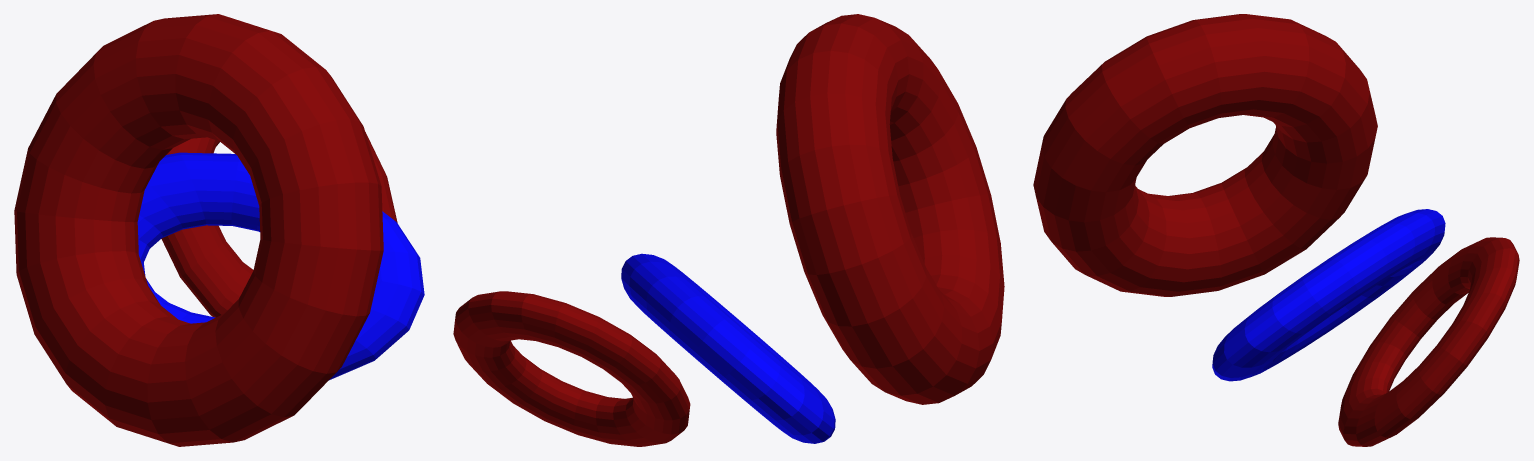
Rendered from effect_lambert_transparent_texture_aone.dae.
3 views of the same model, side by side, from view 1: azimuth 30°, elevation 25°; view 2: azimuth 150°, elevation 25°; view 3: azimuth 270°, elevation 25° (orthographic). The views are drawn at different scales.
Parts seen in each view (by area): view 1: pTorus3, pTorus1, pTorus2; view 2: pTorus3, pTorus2, pTorus1; view 3: pTorus3, pTorus2, pTorus1.
Part boxes in pixels (box(x1,y1,x2,y2)): pTorus3: box(14, 14, 383, 446); pTorus1: box(137, 152, 424, 380); pTorus2: box(161, 132, 397, 317); pTorus3: box(776, 14, 1004, 404); pTorus2: box(453, 291, 690, 446); pTorus1: box(621, 253, 835, 443); pTorus3: box(1033, 14, 1377, 296); pTorus2: box(1338, 237, 1519, 446); pTorus1: box(1212, 209, 1445, 381).
Bounding box in the file's own units: 308 × 283 × 357.
